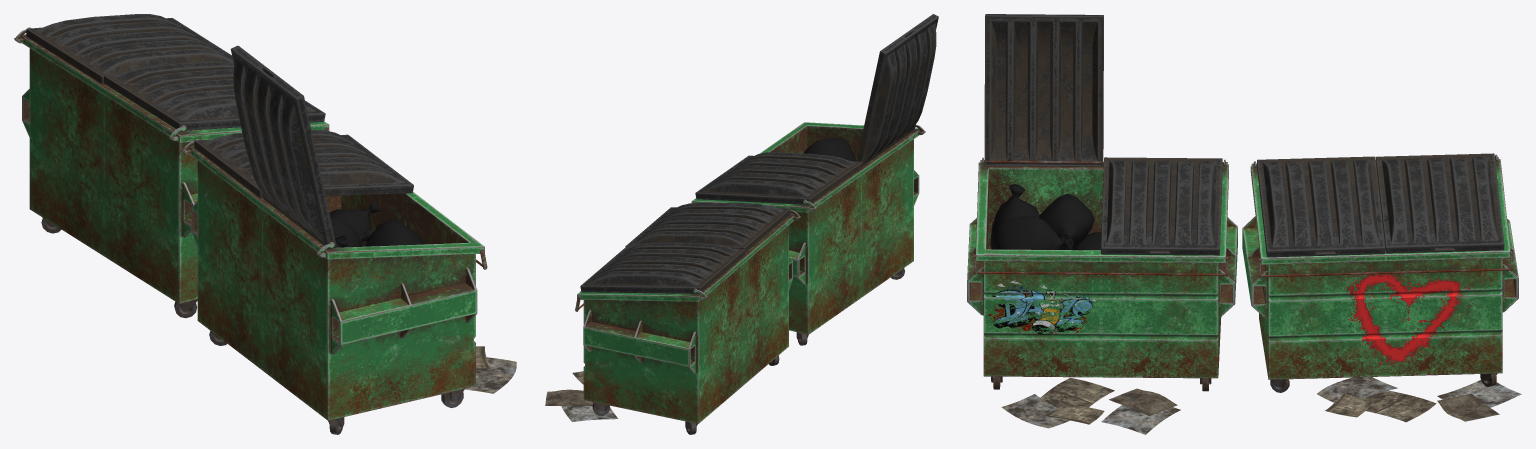
File: uploads_files_5434852_dumpster_and_trash(FBX).fbx
The picture shows the model from 3 angles, left to right: view 1: azimuth 30°, elevation 25°; view 2: azimuth 150°, elevation 25°; view 3: azimuth 270°, elevation 25°; orthographic projection. The views are drawn at different scales.
Visible parts, largest first — view 1: dumpster_open, dumpster_closed, trash_bags, papers; view 2: dumpster_closed, dumpster_open, papers, trash_bags; view 3: dumpster_open, dumpster_closed, papers, trash_bags.
Part boxes in pixels (x1,y1,x2,y2): dumpster_open: (182, 45, 487, 434); dumpster_closed: (14, 14, 329, 318); trash_bags: (329, 200, 424, 247); papers: (465, 346, 516, 393); dumpster_closed: (575, 202, 800, 434); dumpster_open: (691, 14, 938, 345); papers: (545, 371, 618, 421); trash_bags: (804, 137, 856, 161); dumpster_open: (967, 14, 1237, 391); dumpster_closed: (1242, 153, 1518, 392); papers: (1001, 377, 1521, 434); trash_bags: (990, 184, 1101, 250).
Size of the model in its own units: 196 by 242 by 396.
4 materials, 4 textured.
